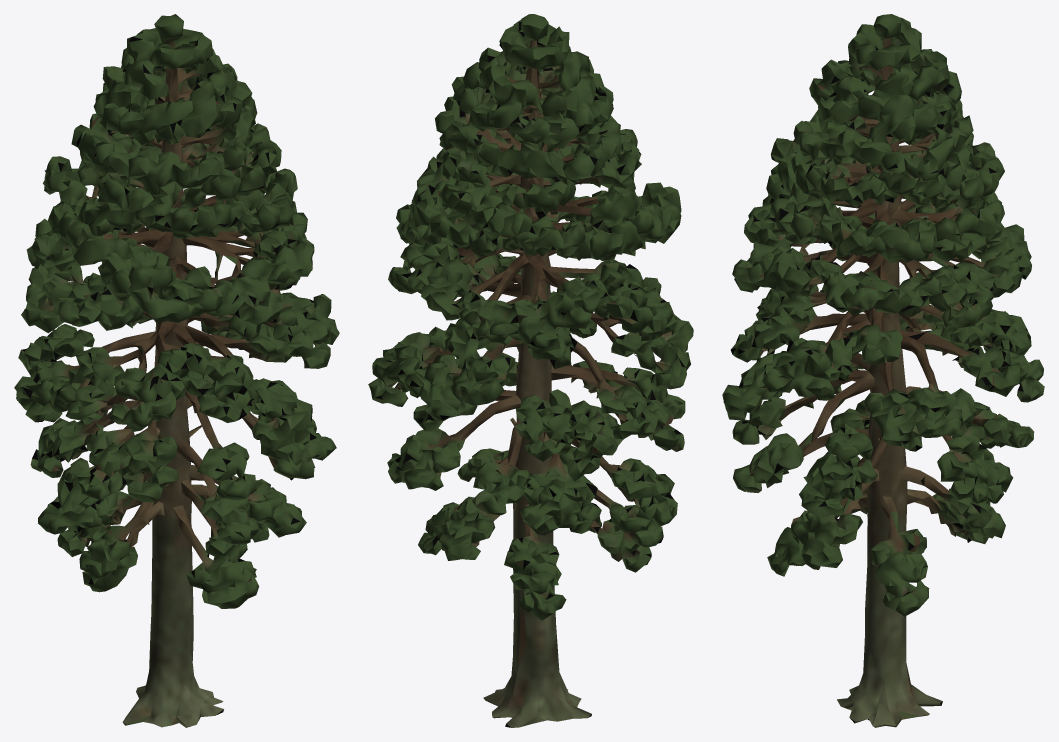
3 renders of one model, left to right at view 1: azimuth 30°, elevation 25°; view 2: azimuth 150°, elevation 25°; view 3: azimuth 270°, elevation 25°, orthographic.
Visible parts, largest first — view 1: ValleyPine; view 2: ValleyPine; view 3: ValleyPine.
Boxes of the visible parts, x1,y1,x2,y2 form: ValleyPine: (14, 14, 339, 727); ValleyPine: (368, 14, 693, 727); ValleyPine: (722, 14, 1044, 727).
Bounding box in the file's own units: 4.06 × 9.99 × 4.22.
1 material, 1 textured.
